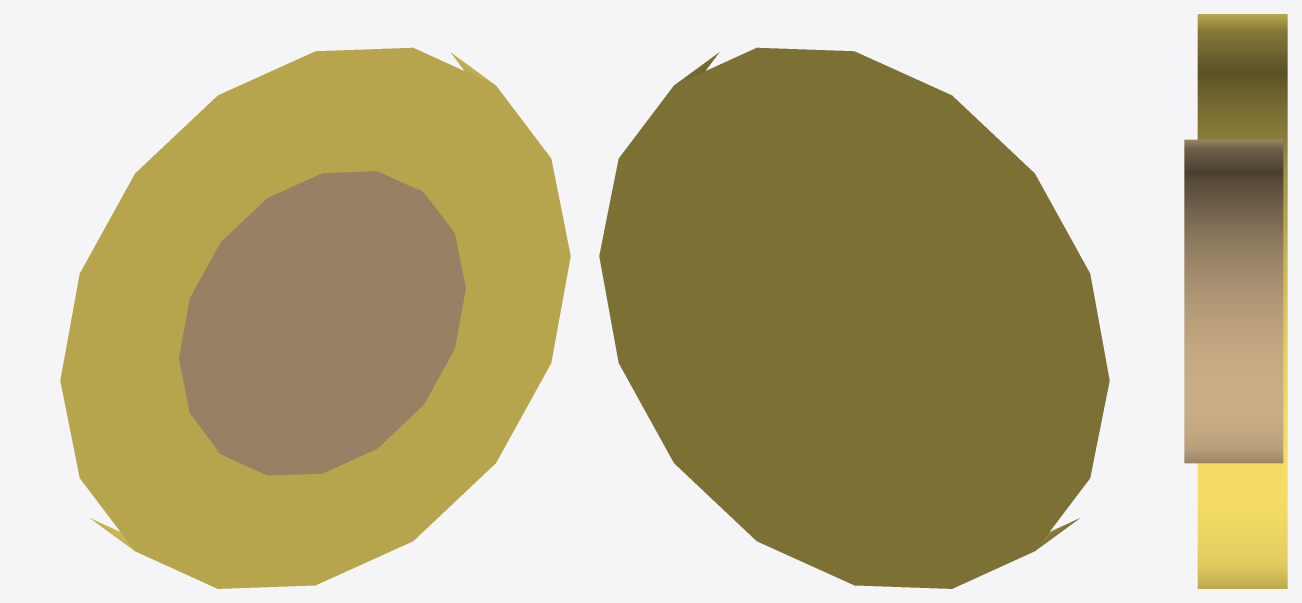
The model's file is coin.glb.
3 views of the same model, side by side, from view 1: azimuth 30°, elevation 25°; view 2: azimuth 150°, elevation 25°; view 3: azimuth 270°, elevation 25° (orthographic). The views are drawn at different scales.
Parts seen in each view (by area): view 1: coin; view 2: coin; view 3: coin.
Part boxes in pixels (box(x1,y1,x2,y2)): coin: box(60, 47, 570, 588); coin: box(599, 47, 1109, 588); coin: box(1184, 14, 1287, 588).
Bounding box in the file's own units: 0.64 × 0.64 × 0.115.
